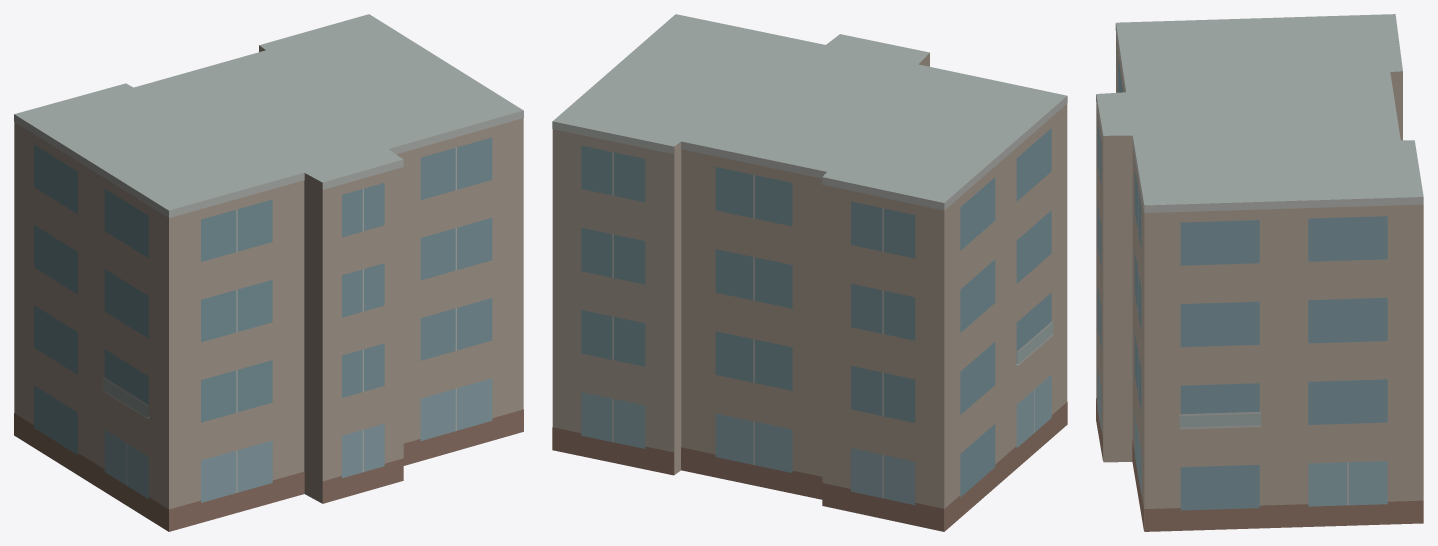
The model's file is survey-upis-32531850.glb.
3 renders of one model, left to right at view 1: azimuth 30°, elevation 25°; view 2: azimuth 150°, elevation 25°; view 3: azimuth 270°, elevation 25°, orthographic. The views are drawn at different scales.
Visible parts, largest first — view 1: survey-upis-32531850.tmp; view 2: survey-upis-32531850.tmp; view 3: survey-upis-32531850.tmp.
Part boxes in pixels (x1,y1,x2,y2): survey-upis-32531850.tmp: (14,14,523,531); survey-upis-32531850.tmp: (552,14,1067,531); survey-upis-32531850.tmp: (1096,14,1423,531).
Size of the model in its own units: 13.22 by 10.5 by 9.56.
